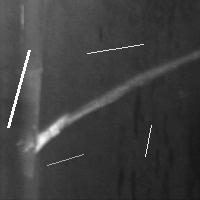scratches: (20, 52, 196, 156), (3, 45, 34, 132), (82, 39, 148, 58), (42, 149, 88, 170), (140, 120, 156, 161)
